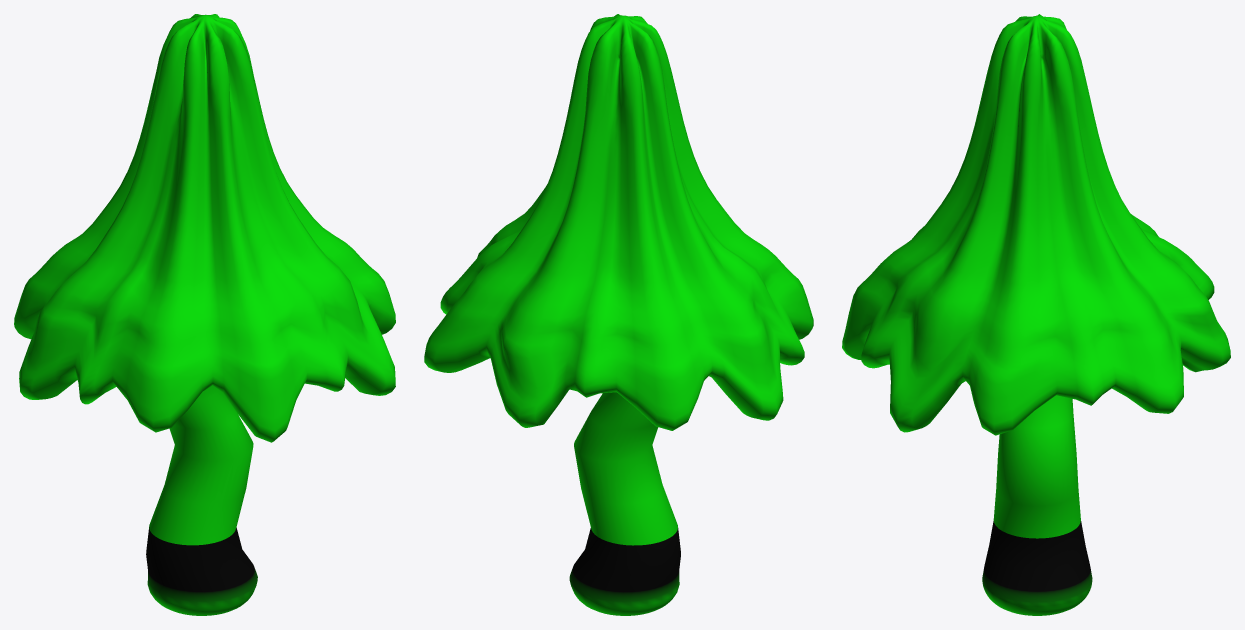
The model's file is Umbrella_shroom.fbx.
3 views of the same model, side by side, from view 1: azimuth 30°, elevation 25°; view 2: azimuth 150°, elevation 25°; view 3: azimuth 270°, elevation 25° (orthographic).
Visible parts, largest first — view 1: polySurface15; view 2: polySurface15; view 3: polySurface15.
Boxes of the visible parts, <box> form: polySurface15: <box>14,14,395,615</box>; polySurface15: <box>424,14,813,615</box>; polySurface15: <box>842,14,1230,615</box>.
Bounding box in the file's own units: 1.79 × 2.95 × 1.78.
